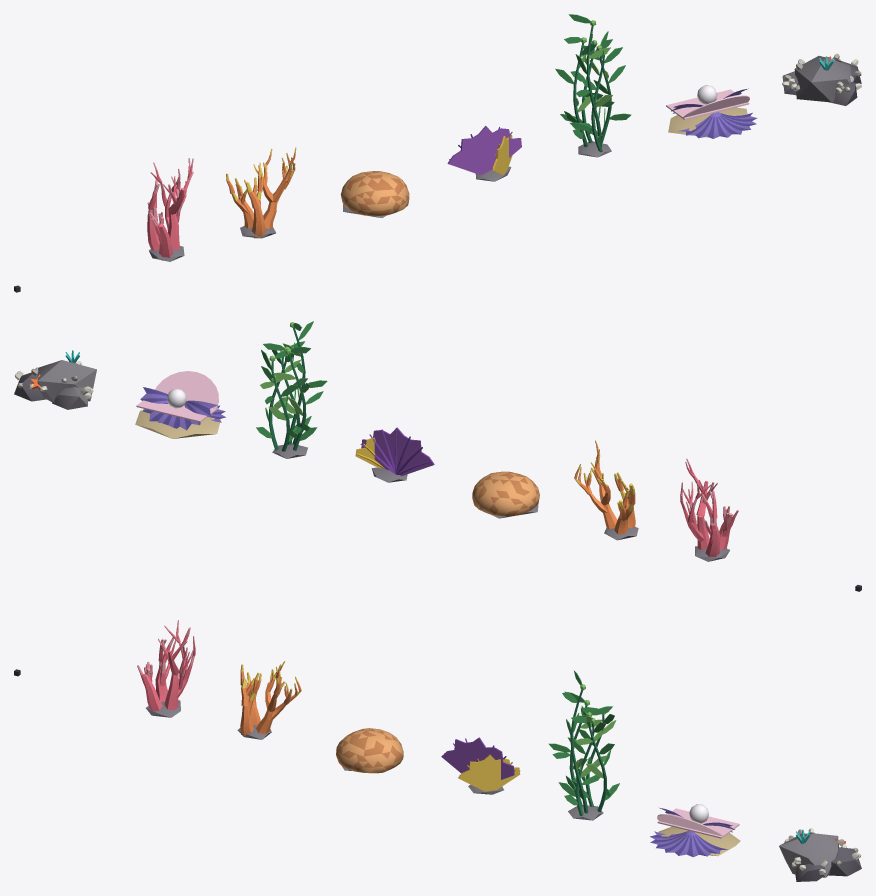
Rendered from Orca.fbx.
3 views of the same model, one above another, from view 1: azimuth 30°, elevation 25°; view 2: azimuth 150°, elevation 25°; view 3: azimuth 330°, elevation 25° (orthographic).
Parts seen in each view (by area): view 1: Alga, Almeja, RocaPercebes, CoralCerebro, CoralRama, CoralAbanico, CoralRamaNaranja; view 2: Almeja, Alga, RocaPercebes, CoralAbanico, CoralRama, CoralCerebro, CoralRamaNaranja; view 3: Alga, RocaPercebes, Almeja, CoralRama, CoralAbanico, CoralCerebro, CoralRamaNaranja.
Boxes of the visible parts, x1,y1,x2,y2 form: Alga: [555, 14, 631, 157]; Almeja: [666, 88, 757, 138]; RocaPercebes: [782, 53, 861, 105]; CoralCerebro: [340, 171, 409, 217]; CoralRama: [147, 158, 193, 261]; CoralAbanico: [447, 126, 521, 181]; CoralRamaNaranja: [226, 147, 296, 238]; Almeja: [135, 371, 225, 438]; Alga: [256, 321, 327, 458]; RocaPercebes: [14, 350, 96, 409]; CoralAbanico: [355, 427, 434, 482]; CoralRama: [680, 458, 738, 561]; CoralCerebro: [472, 471, 539, 518]; CoralRamaNaranja: [574, 440, 638, 540]; Alga: [548, 670, 619, 820]; RocaPercebes: [779, 828, 861, 881]; Almeja: [650, 808, 740, 857]; CoralRama: [137, 620, 195, 717]; CoralAbanico: [441, 737, 520, 794]; CoralCerebro: [336, 728, 403, 773]; CoralRamaNaranja: [237, 661, 301, 739].
Size of the model in its own units: 200 by 30.47 by 19.6.
